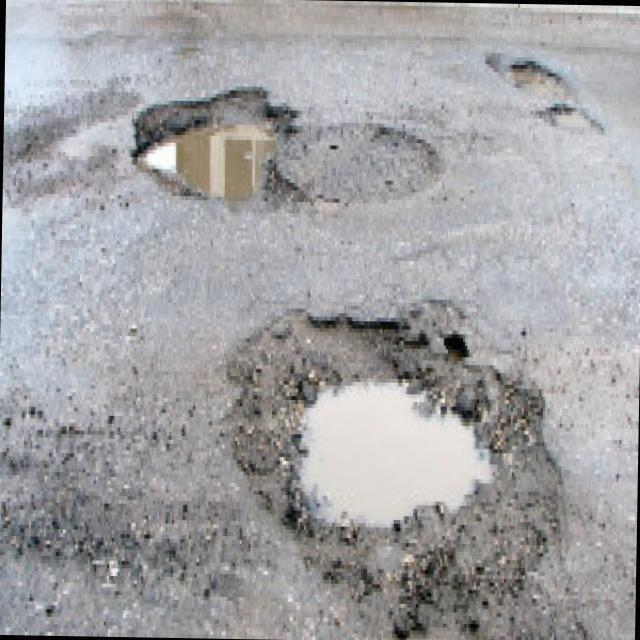Pothole: (246, 302, 557, 606), (129, 76, 312, 212), (488, 36, 570, 96), (540, 98, 600, 142)
